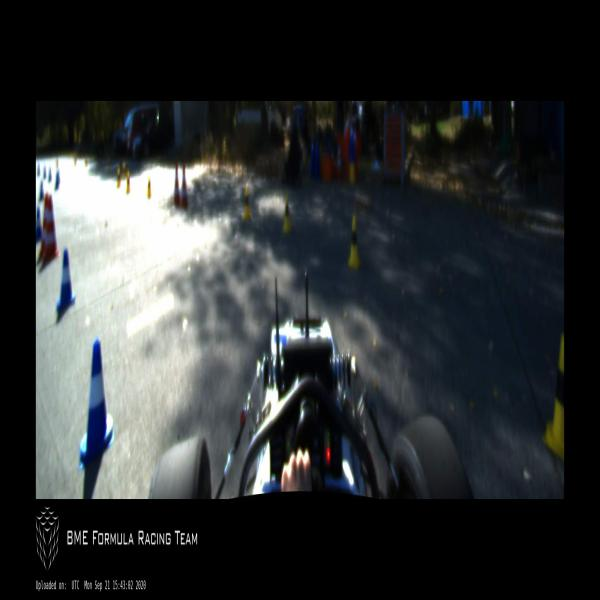blue_cone: (79, 339, 114, 469), (57, 250, 76, 312), (36, 209, 42, 241), (40, 180, 44, 200), (56, 172, 60, 189), (48, 168, 52, 182)
large_orange_cone: (43, 195, 59, 264), (38, 193, 48, 260), (180, 164, 188, 210), (173, 164, 179, 206)
yellow_cone: (543, 336, 564, 463), (348, 215, 361, 269), (282, 194, 292, 234), (242, 185, 251, 219), (146, 177, 151, 198), (126, 172, 130, 192), (122, 163, 126, 180), (108, 154, 112, 170), (117, 169, 120, 189), (84, 156, 88, 169), (74, 156, 77, 167), (56, 157, 58, 169)
